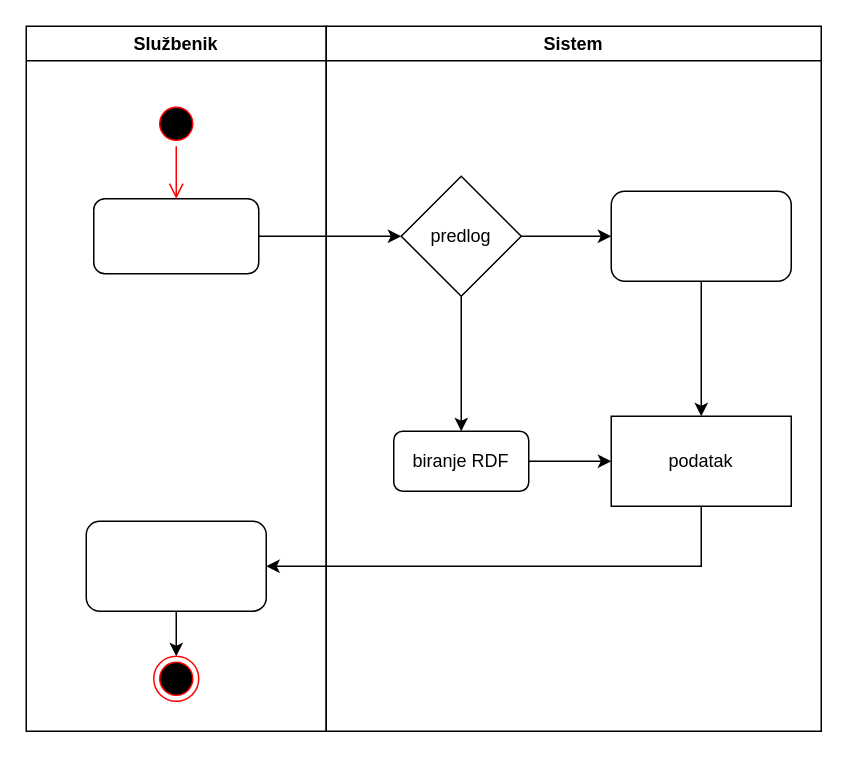
Some shapes in this 848 by 758 pixel diagram are drawn without their labels. The centre of each missing label's shape, as x and y in pixels:
biranje JSON: (x=700, y=235)
potražnja podataka: (x=175, y=235)
preuzimanje podatka: (x=175, y=565)
